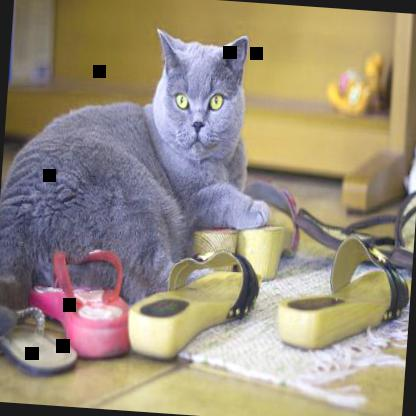cat: (0, 17, 283, 361)
